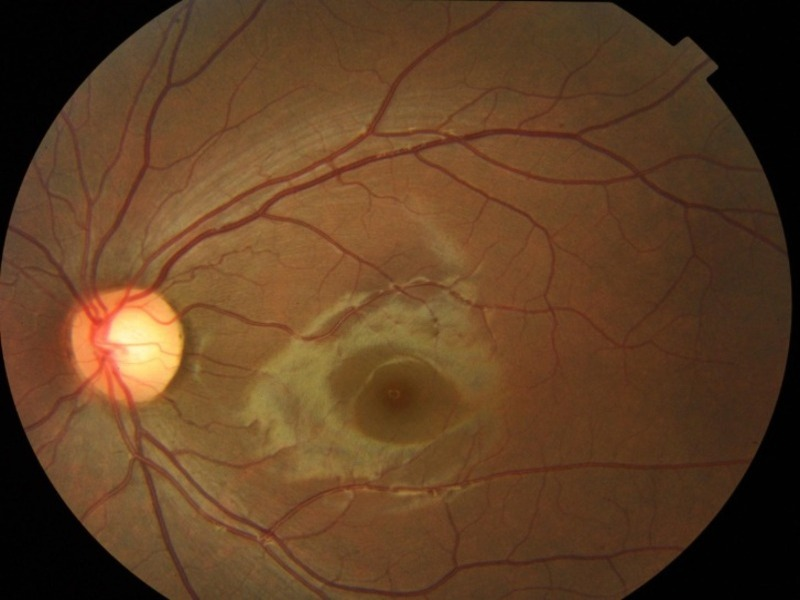Optic Cup: (112, 311, 164, 370)
Optic Disc: (67, 289, 182, 401)
